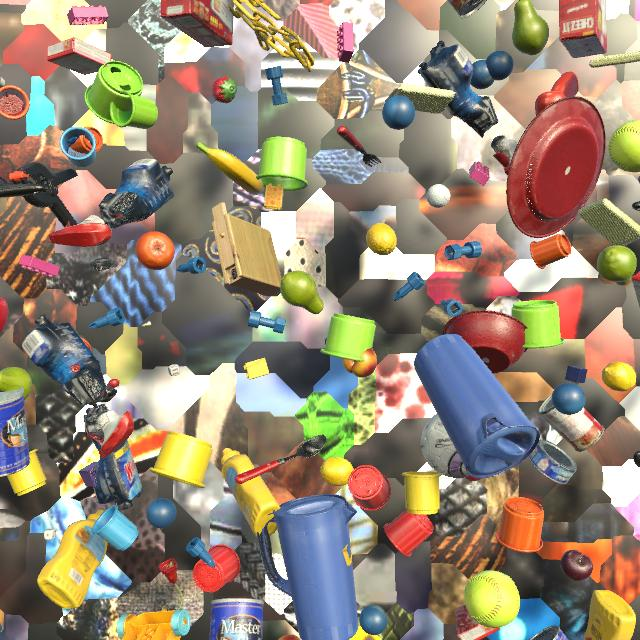ycb_002_master_chef_can: (0, 387, 30, 477), (209, 598, 264, 640), (529, 625, 568, 640)
ycb_003_cracker_box: (161, 0, 234, 47), (559, 0, 607, 58)
ycb_005_tomato_soup_can: (539, 394, 604, 452), (447, 0, 487, 18)
ycb_006_mustard_bottle: (37, 509, 108, 609), (221, 448, 280, 537), (583, 590, 636, 640)
ycb_007_tuna_fish_can: (528, 439, 577, 484), (638, 176, 640, 183)
ycb_009_gelatin_box: (47, 37, 112, 75), (455, 605, 500, 640), (631, 271, 640, 307)
ycb_011_banana: (196, 141, 265, 195)
ycb_012_strawberry: (212, 77, 237, 103), (465, 475, 482, 481)
ycb_013_apple: (0, 297, 8, 333)
ycb_014_lemon: (602, 362, 636, 392), (366, 223, 397, 255), (320, 457, 354, 486)
ycb_015_peach: (342, 348, 377, 378), (278, 634, 301, 640)
ycb_016_pear: (512, 0, 549, 55), (280, 271, 324, 314), (597, 245, 637, 286), (0, 367, 32, 400)
ycb_017_orange: (135, 231, 175, 270)
ycb_018_plum: (560, 550, 593, 581)
